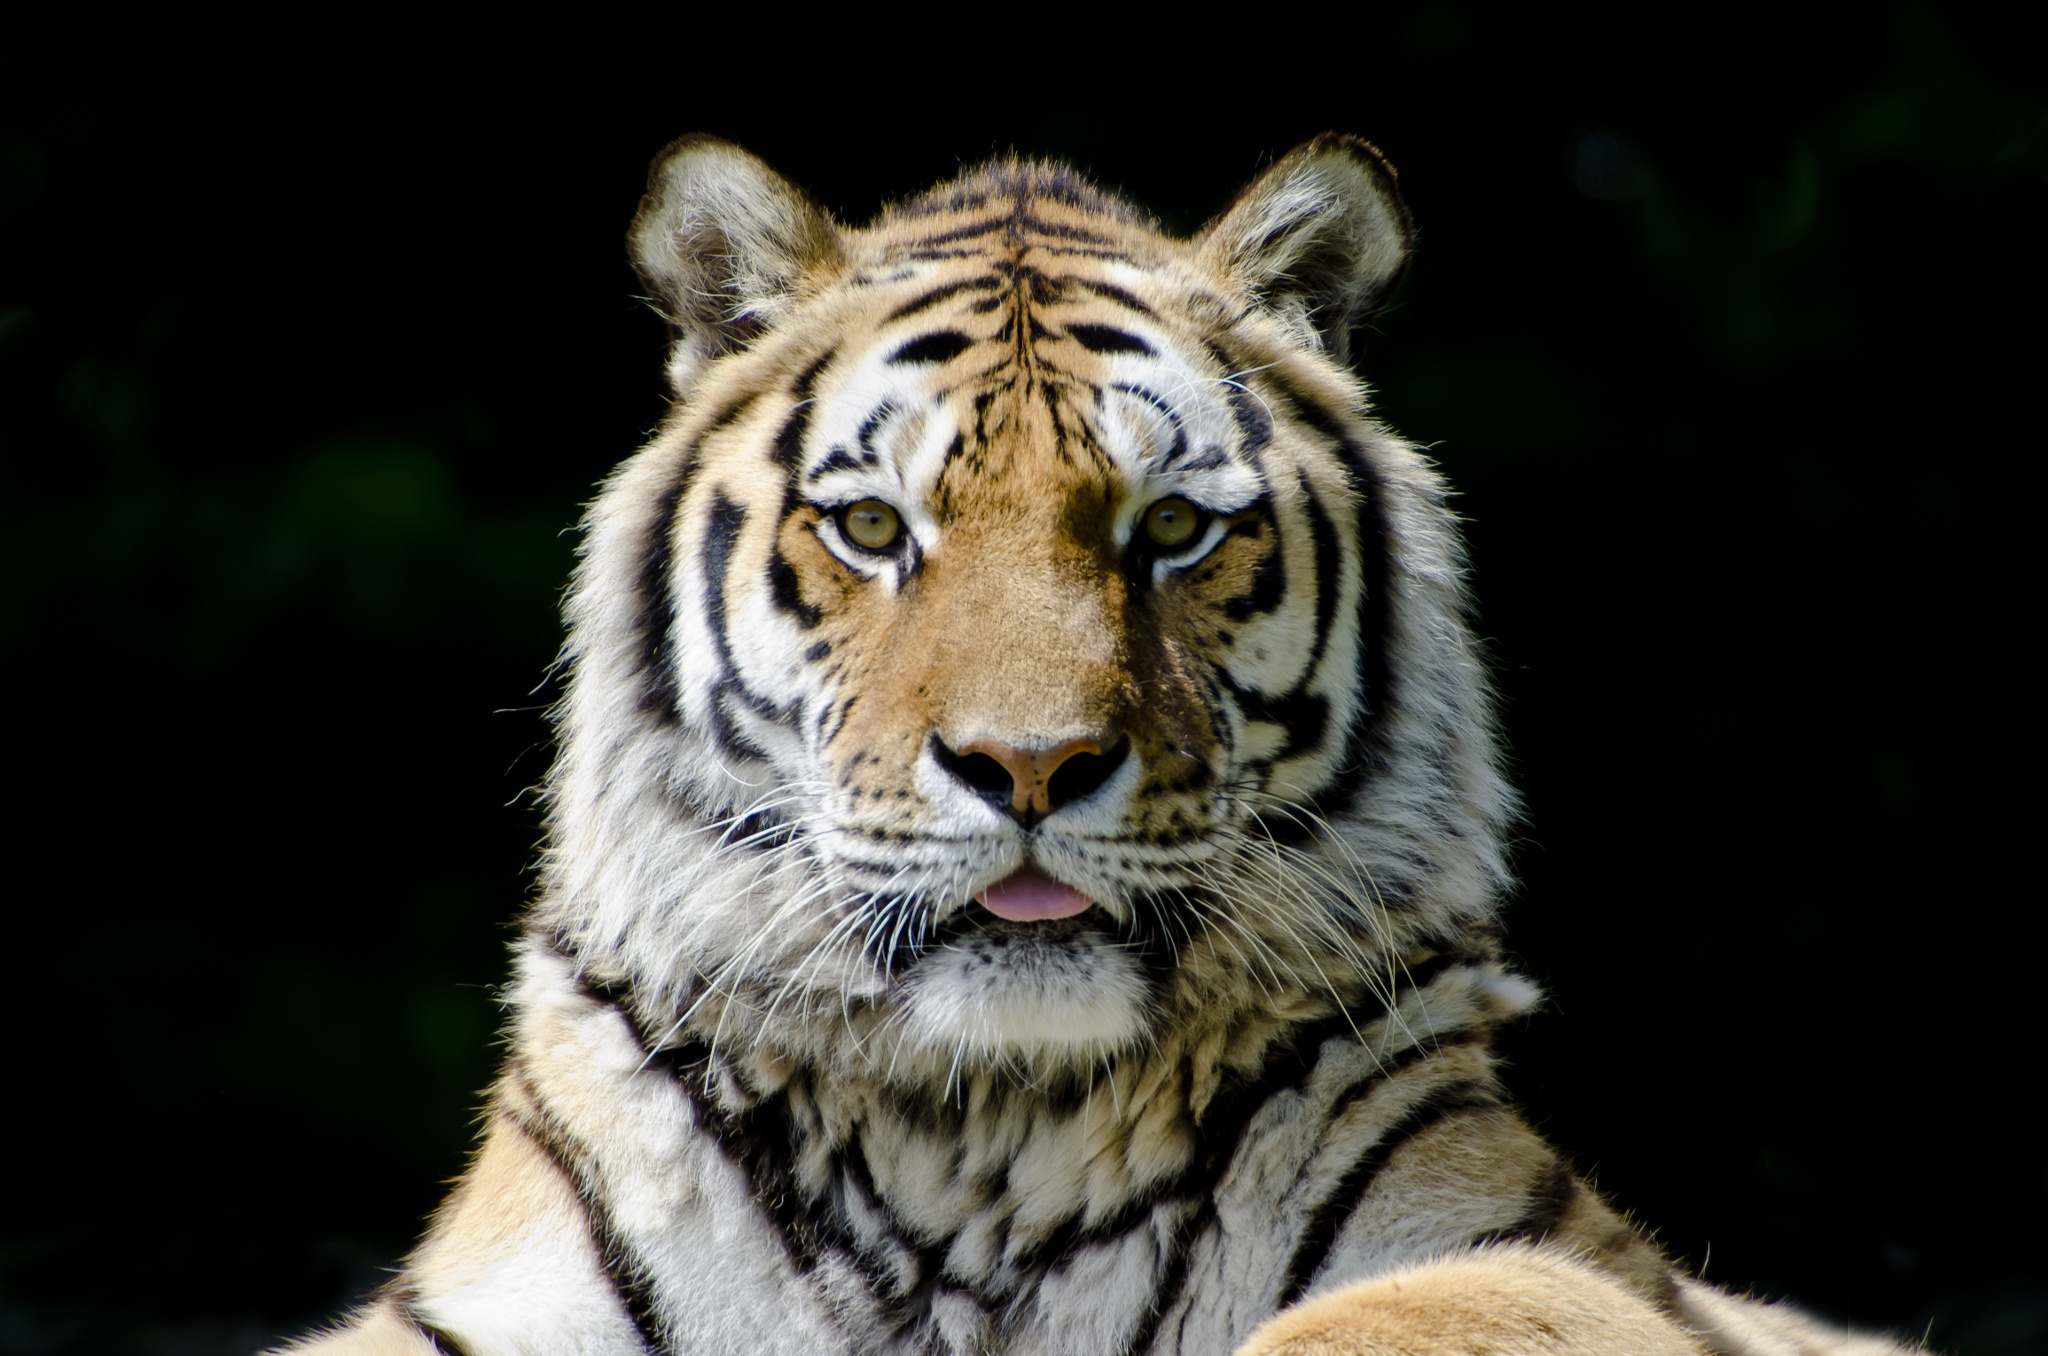tiger: (502, 109, 1644, 1305)
